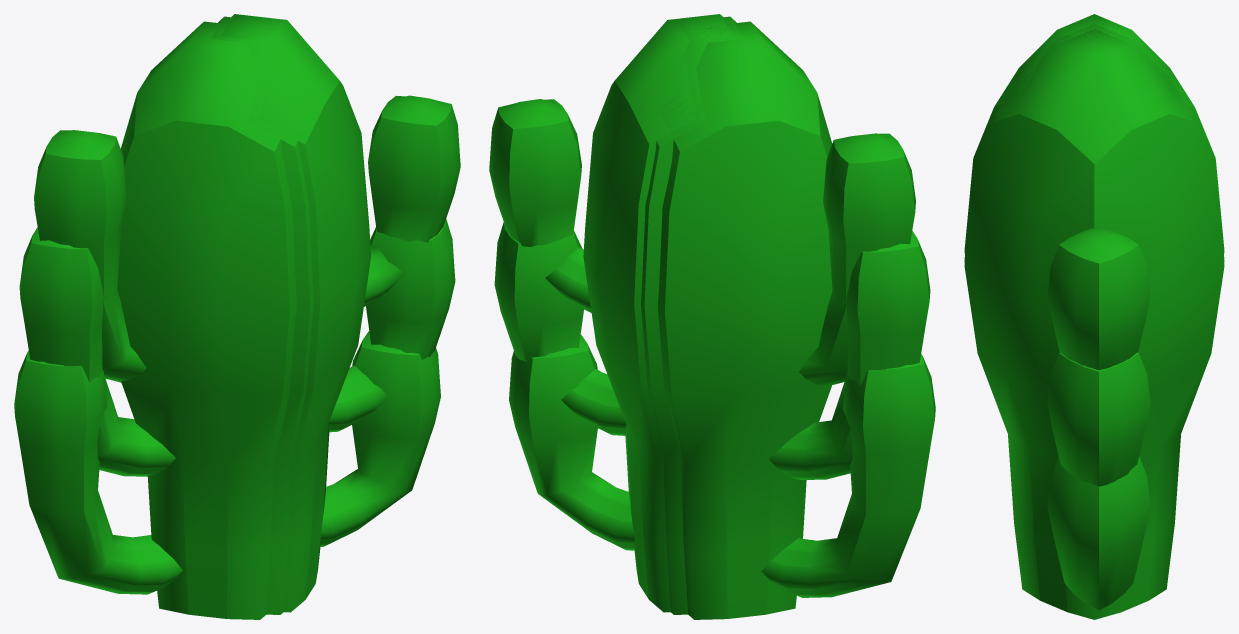
Rendered from Cacti.fbx.
The picture shows the model from 3 angles, left to right: view 1: azimuth 30°, elevation 25°; view 2: azimuth 150°, elevation 25°; view 3: azimuth 270°, elevation 25°; orthographic projection. The views are drawn at different scales.
Visible parts, largest first — view 1: pCube48, pCube46, pCube47; view 2: pCube48, pCube46, pCube47; view 3: pCube46, pCube48, pCube47.
Part boxes in pixels (x1,y1,x2,y2): pCube48: [14, 21, 460, 619]; pCube46: [34, 14, 440, 612]; pCube47: [19, 16, 455, 614]; pCube48: [489, 21, 935, 619]; pCube46: [509, 14, 915, 612]; pCube47: [494, 16, 930, 614]; pCube46: [964, 28, 1224, 619]; pCube48: [964, 14, 1224, 370]; pCube47: [964, 24, 1224, 486].
Size of the model in its own units: 3.34 by 3.99 by 1.73.
